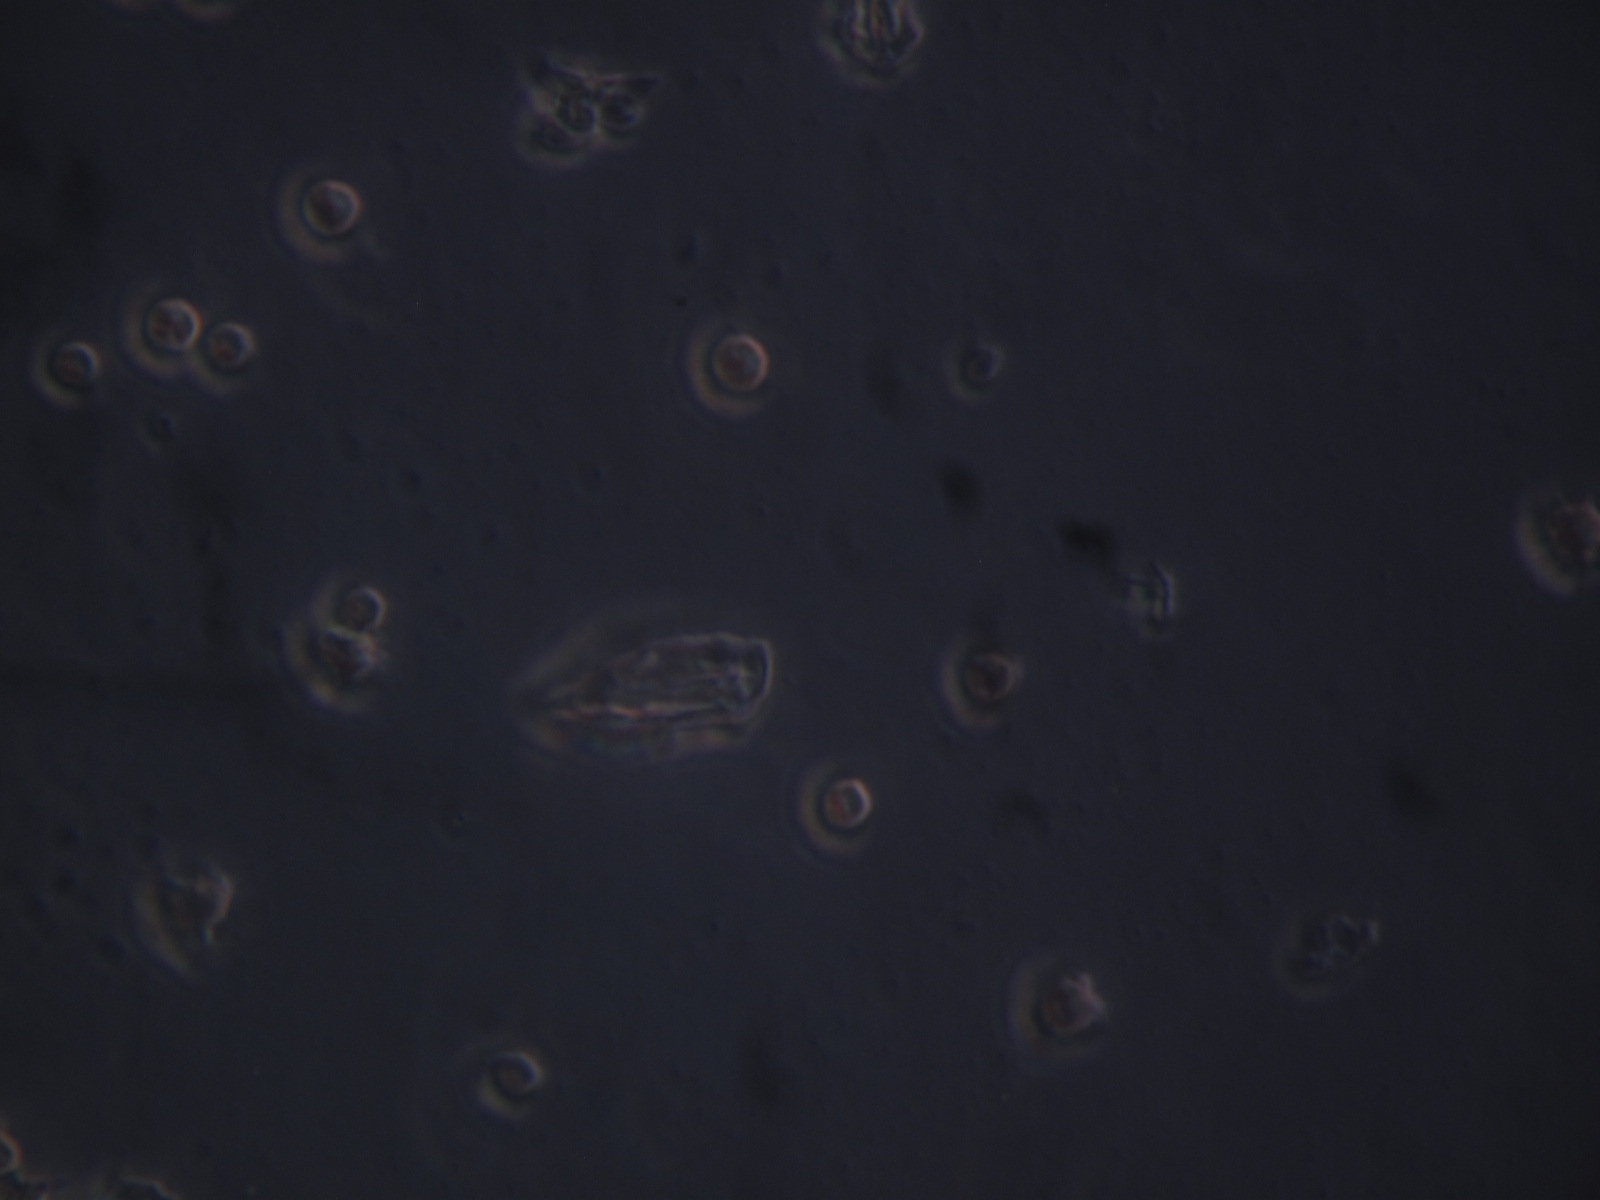hemo: (1012, 955, 1109, 1063), (687, 316, 767, 426), (278, 161, 360, 263), (121, 284, 202, 378), (941, 633, 1015, 729), (797, 758, 871, 853), (31, 332, 106, 408), (472, 1047, 544, 1122), (321, 574, 391, 637), (942, 340, 1007, 405), (200, 314, 254, 389), (522, 110, 590, 166), (595, 86, 645, 150), (544, 88, 602, 144)
